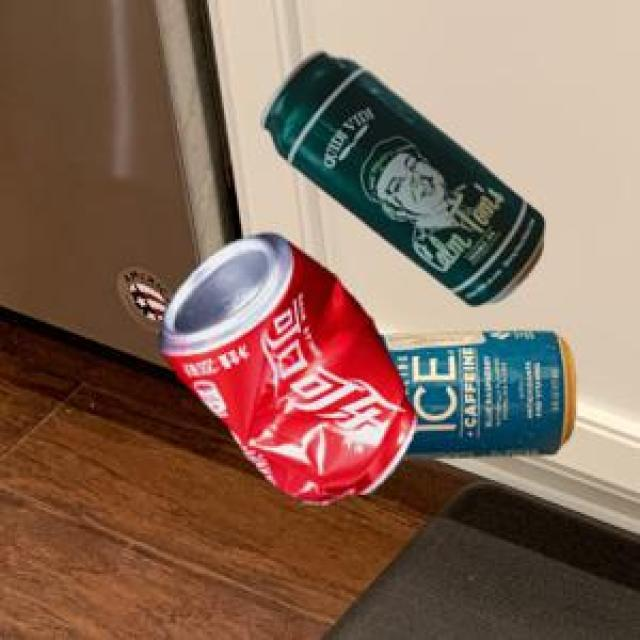Can: (259, 48, 541, 302), (157, 231, 415, 500), (377, 327, 573, 455)
